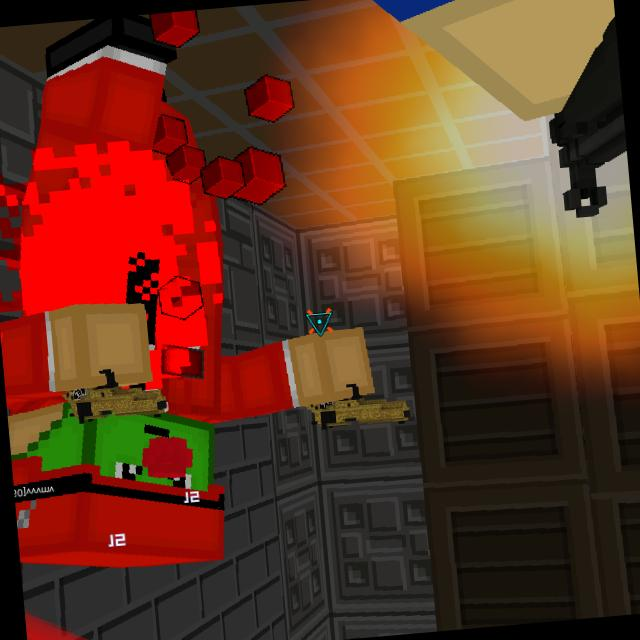enemy: (0, 4, 399, 613)
